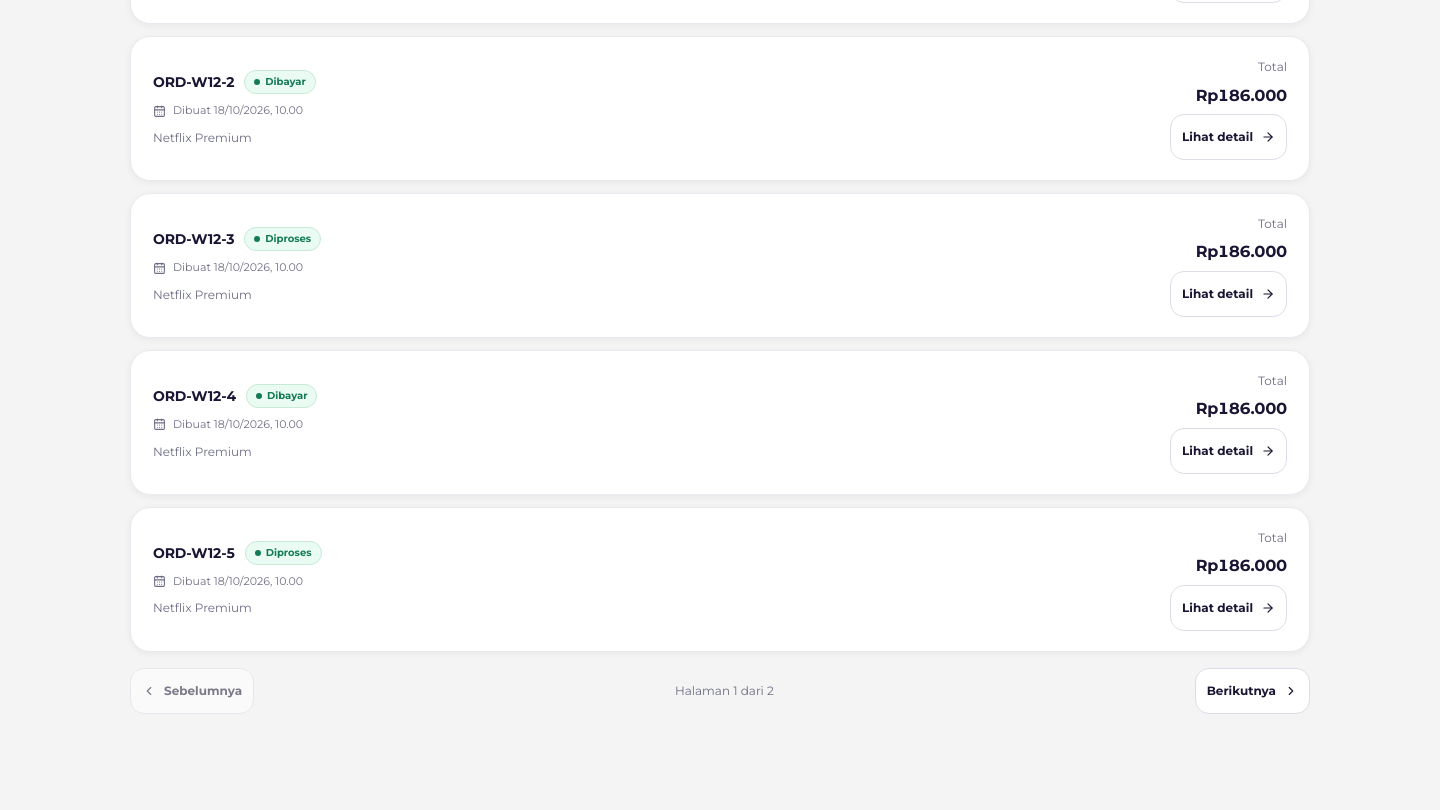
it: riwayat pesanan pelanggan › memuat lima riwayat per halaman memakai parameter pagination API
(page scrolled)
Click the button "Berikutnya": [1252, 690] box [1195,668,1310,714]
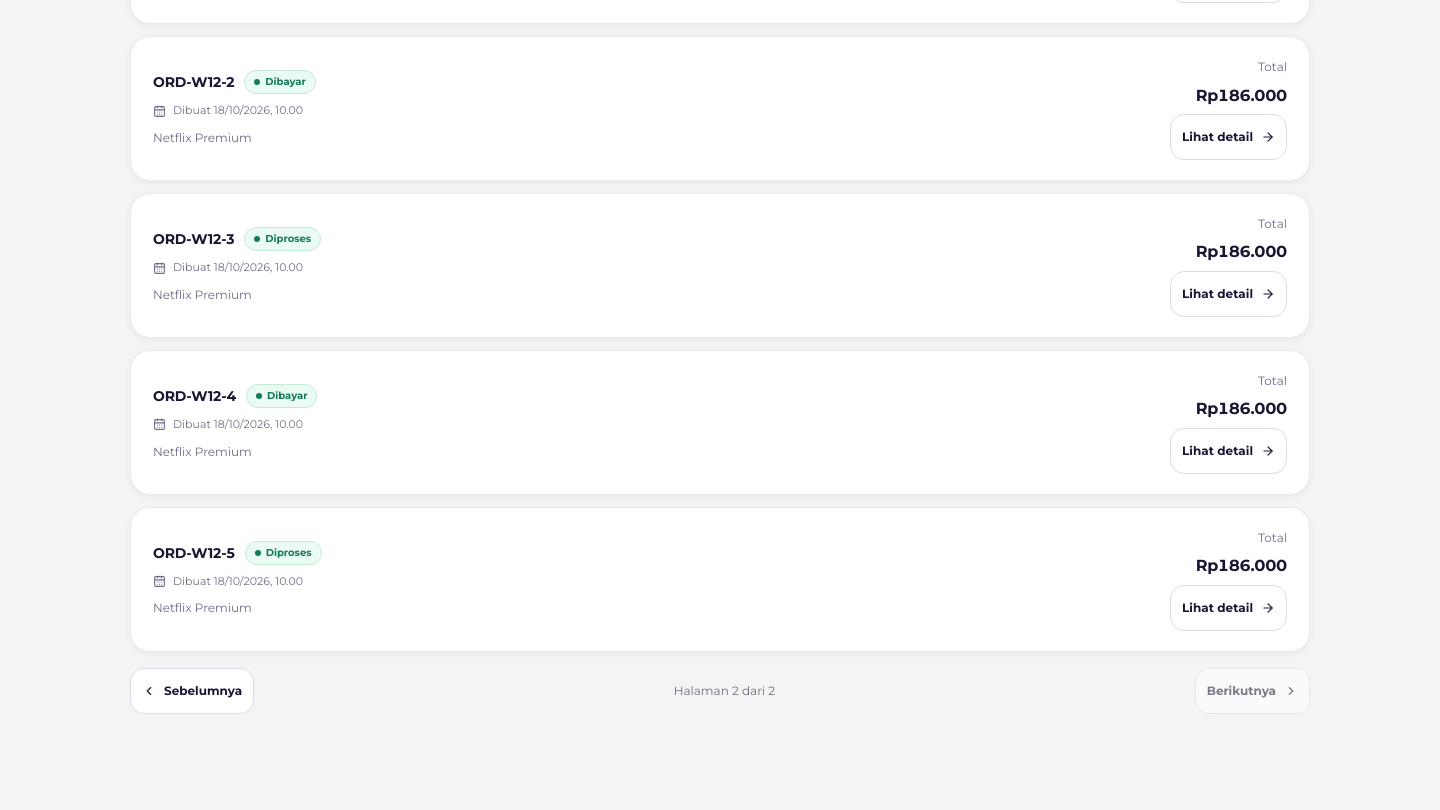
Now the text "Halaman 2 dari 2" is shown, box [674,681,775,700]
Now the button "Berikutnya" is disabled, box [1195,668,1310,714]
